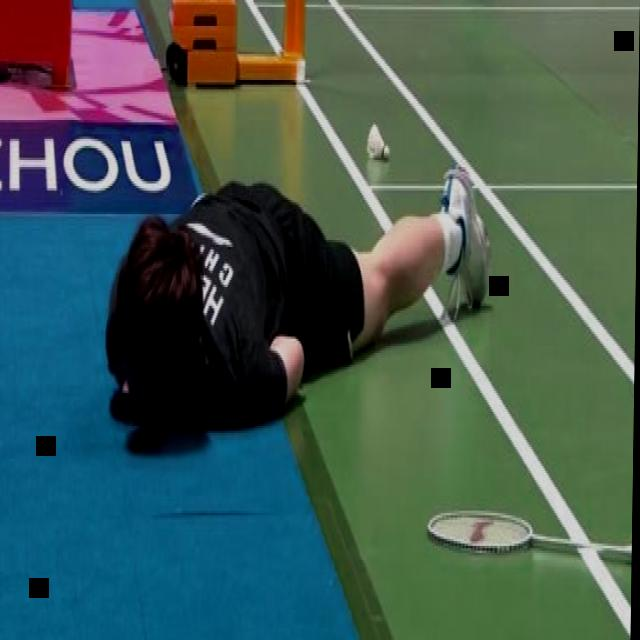Fall-Detected: (103, 134, 492, 444)
